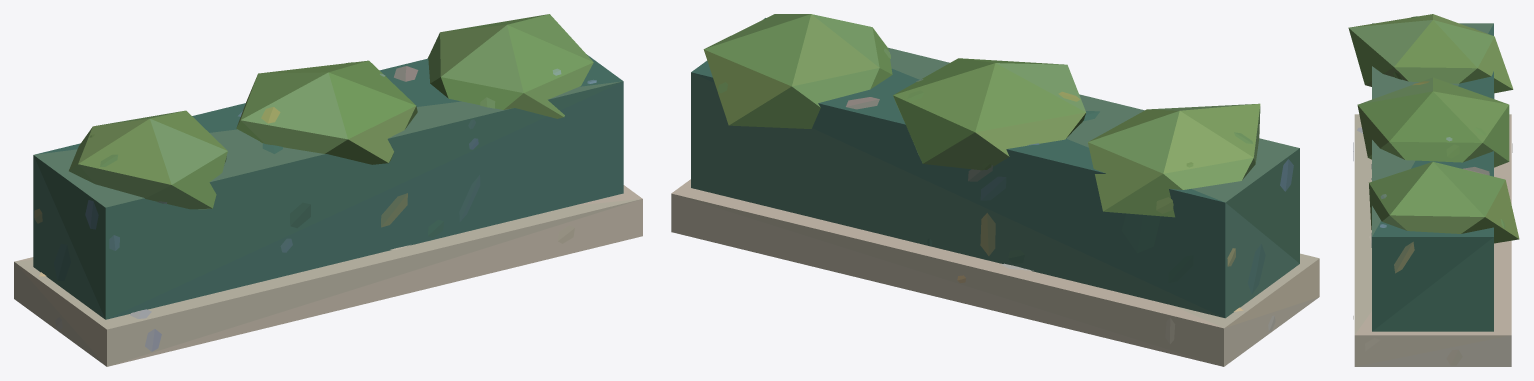
File: HK_Hedge.glb
3 renders of one model, left to right at view 1: azimuth 30°, elevation 25°; view 2: azimuth 150°, elevation 25°; view 3: azimuth 270°, elevation 25°, orthographic. The views are drawn at different scales.
Visible parts, largest first — view 1: HK_Hedge; view 2: HK_Hedge; view 3: HK_Hedge.
Part boxes in pixels (x1=…): HK_Hedge: x1=14, y1=14, x2=642, y2=366; HK_Hedge: x1=671, y1=14, x2=1319, y2=366; HK_Hedge: x1=1348, y1=14, x2=1519, y2=366.
Size of the model in its own units: 3.01 by 1.07 by 0.9814.
